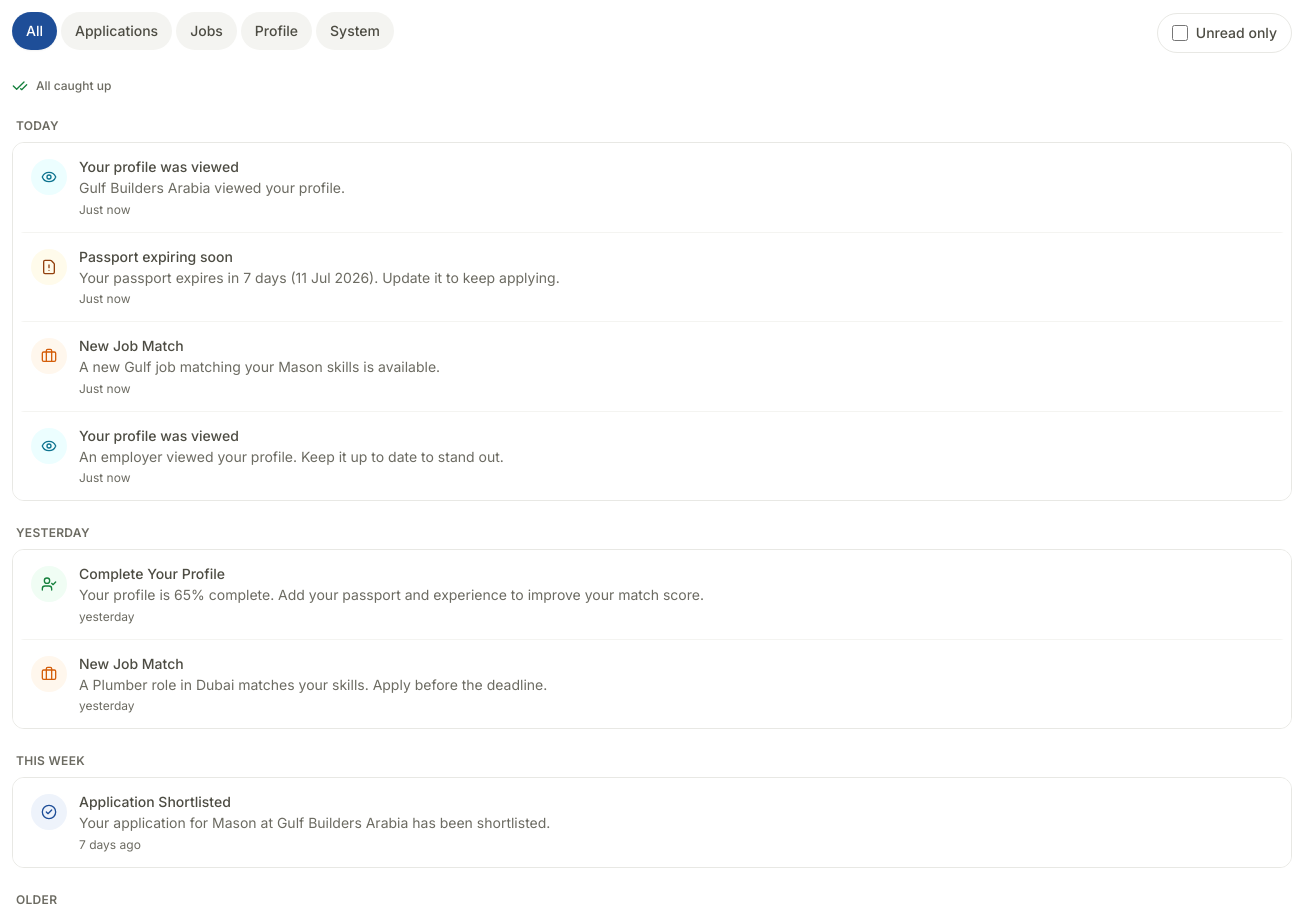
it: NotificationList › empty state offers a way OUT of the filter, and it clears unread-only too
The width and height of the screenshot is (1292, 912).
What coordinates should you click on to do the following:
click the checkbox labelled "Unread only"
I would click on:
 (1180, 33)
Its box is 1172,25 -> 1188,41.
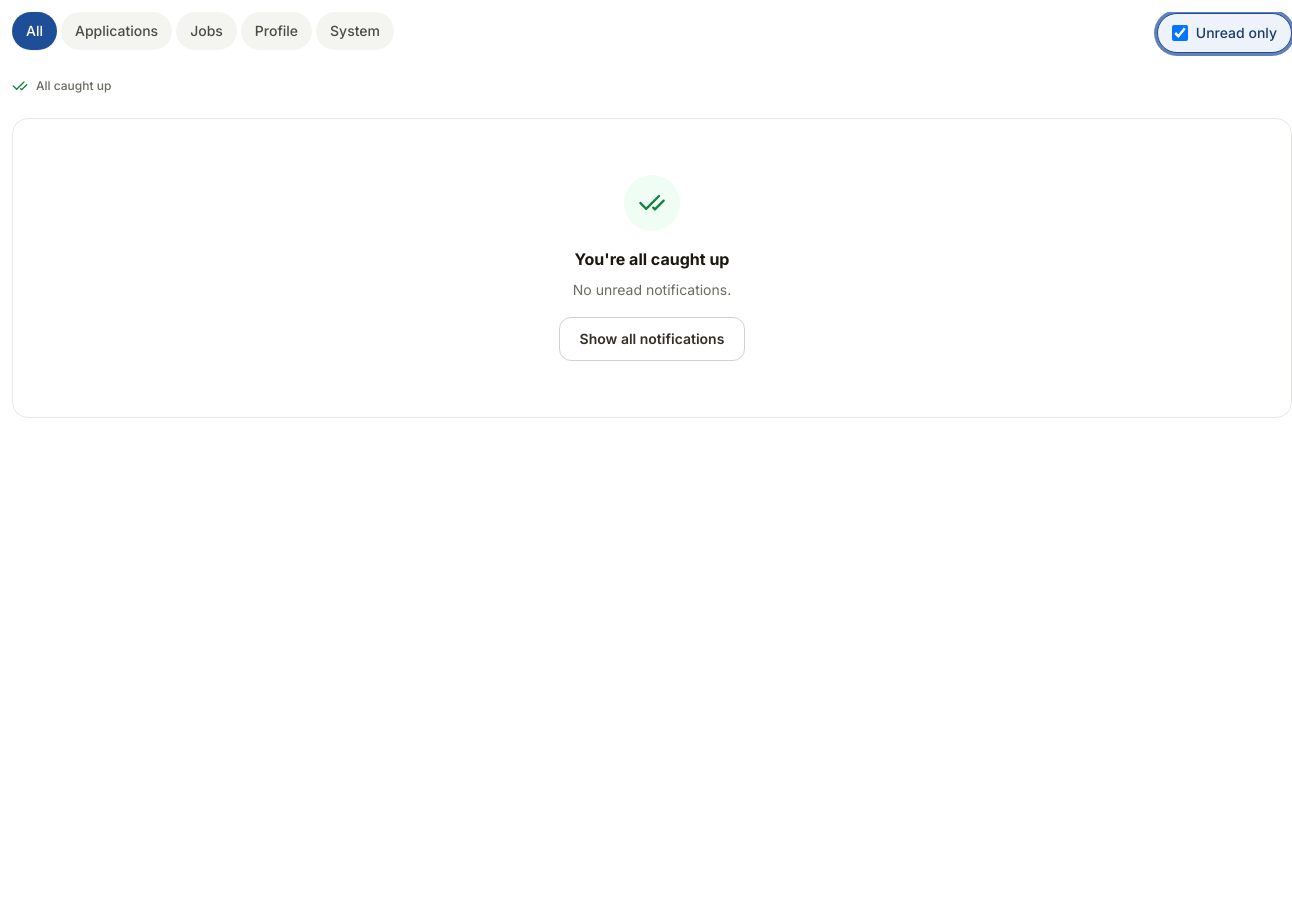
// A dead end is the bug: the empty state must carry the escape hatch.
What coordinates should you click on to do the following:
click the button "Show all notifications"
I would click on:
 (652, 339)
Its box is 559,317 -> 745,361.
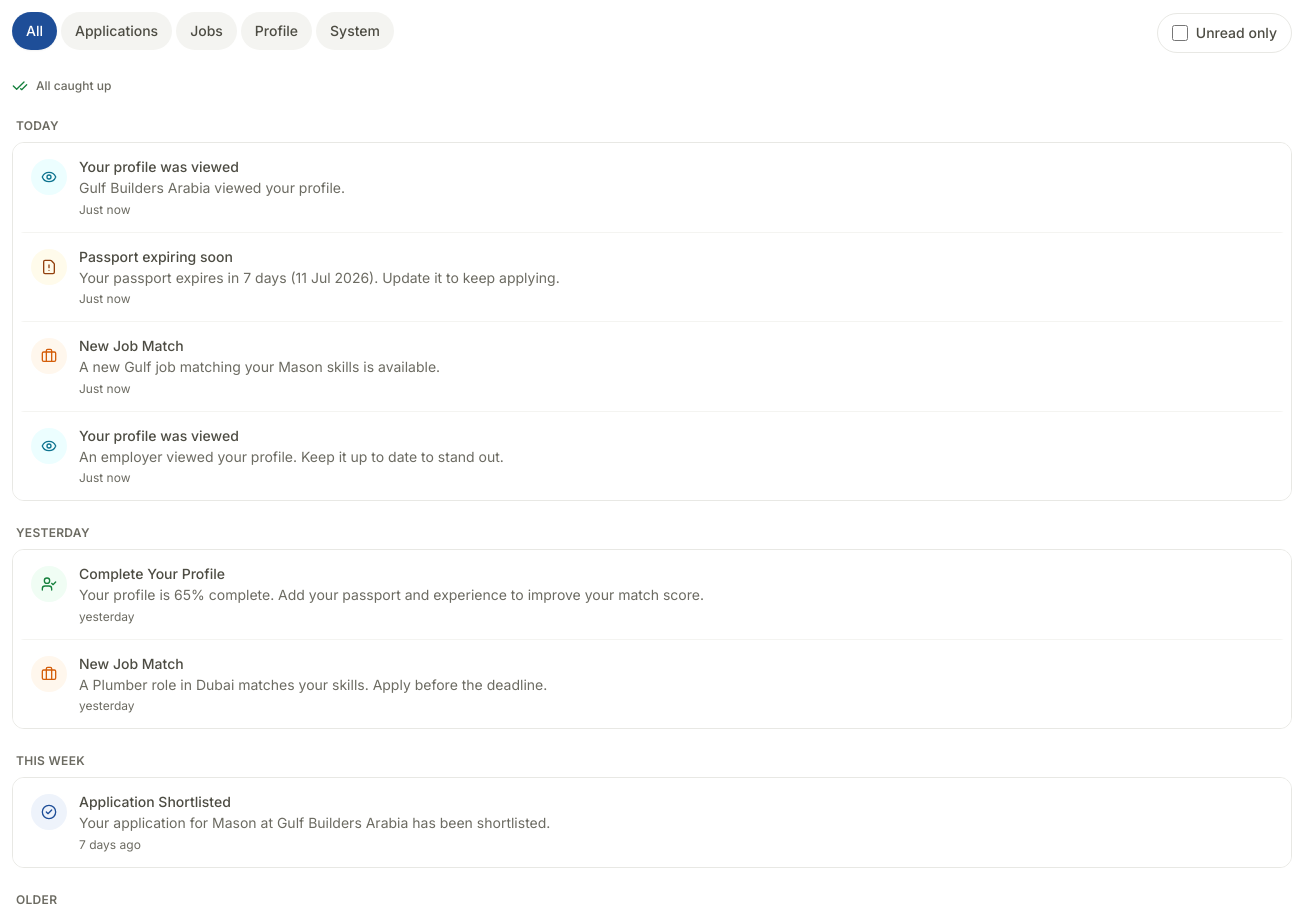
Check: the checkbox labelled "Unread only" is not checked, box 1172,25 -> 1188,41
Check: the text "No unread notifications" is gone
